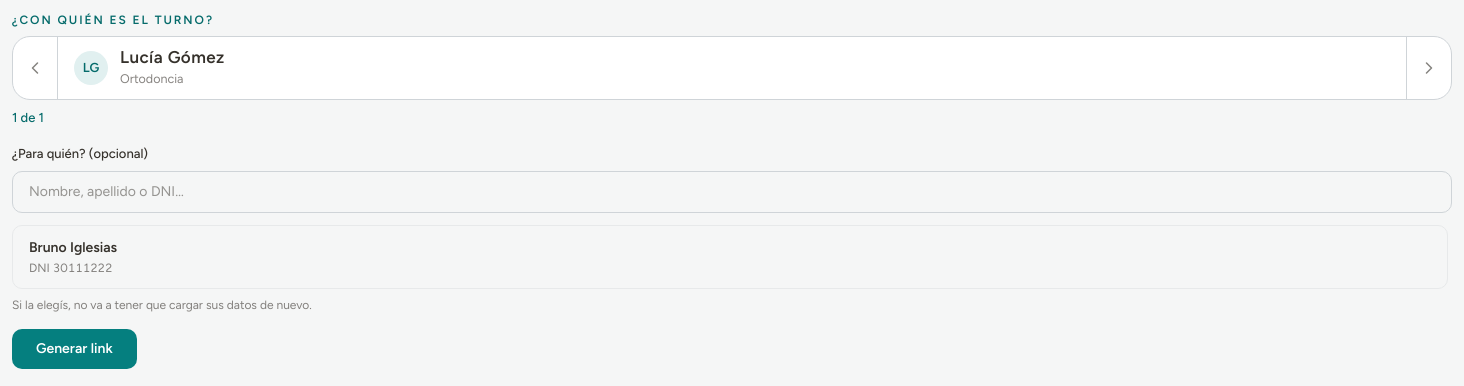
Test case: CompartirLinkTurno › qué decide el link › con 'Cualquier profesional' y una ficha elegida, las manda las dos
Expected: the text "Lucía Gómez" is shown, [120,47,225,68]
Click the button with aria-label "Elegir de quién es la vista": (91, 68) [57,37,1407,99]
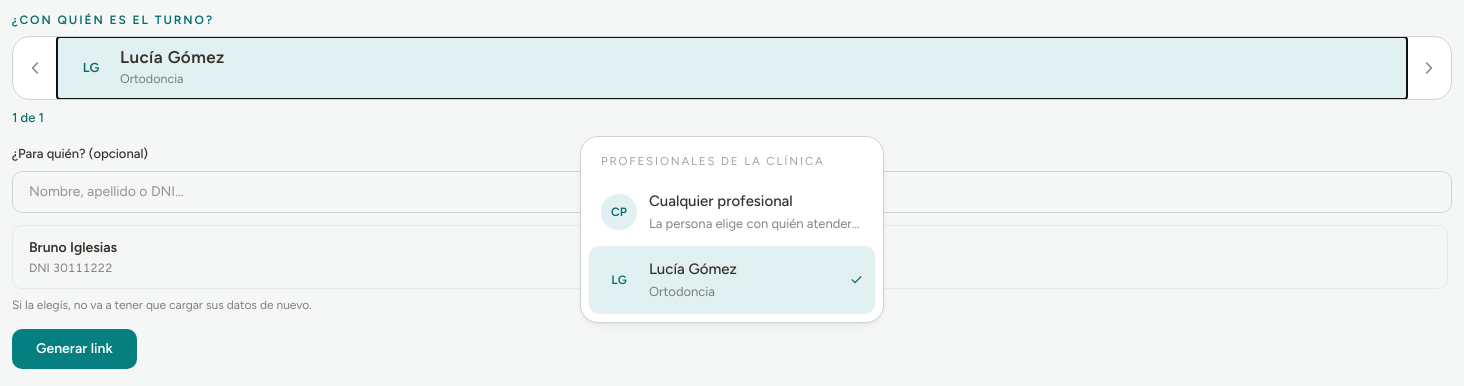
Click the button "Cualquier profesional": (732, 212) [589,178,875,246]
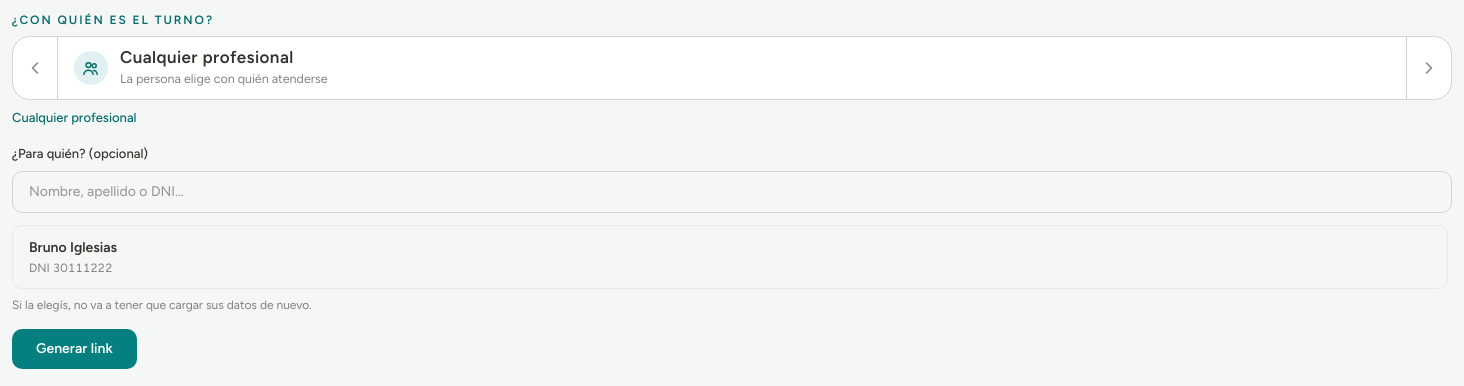
In the search field named "Buscar paciente": (732, 192) [12,171,1452,213], type "Bruno"
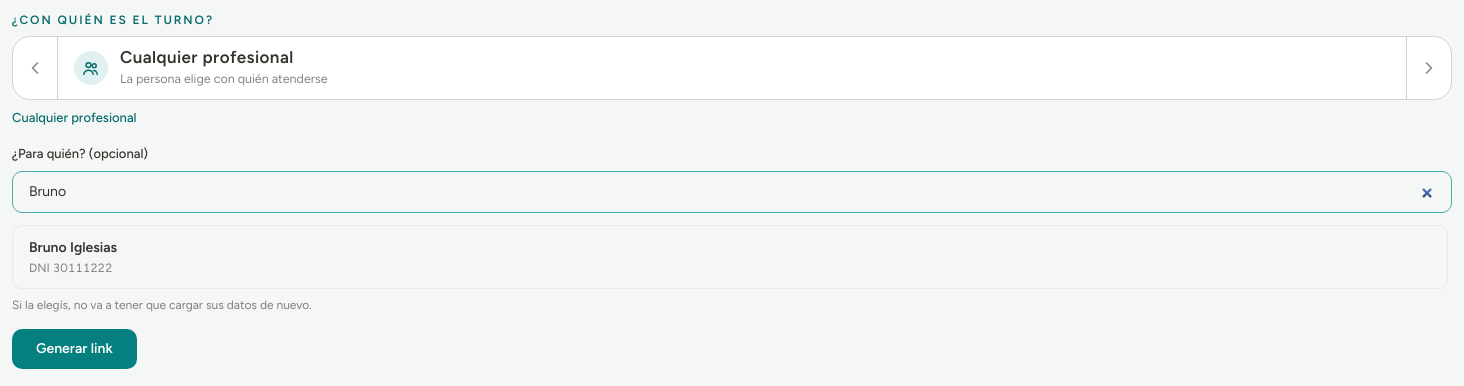
Click the button "Bruno Iglesias DNI 30111222": (48, 248) [12,225,1448,289]
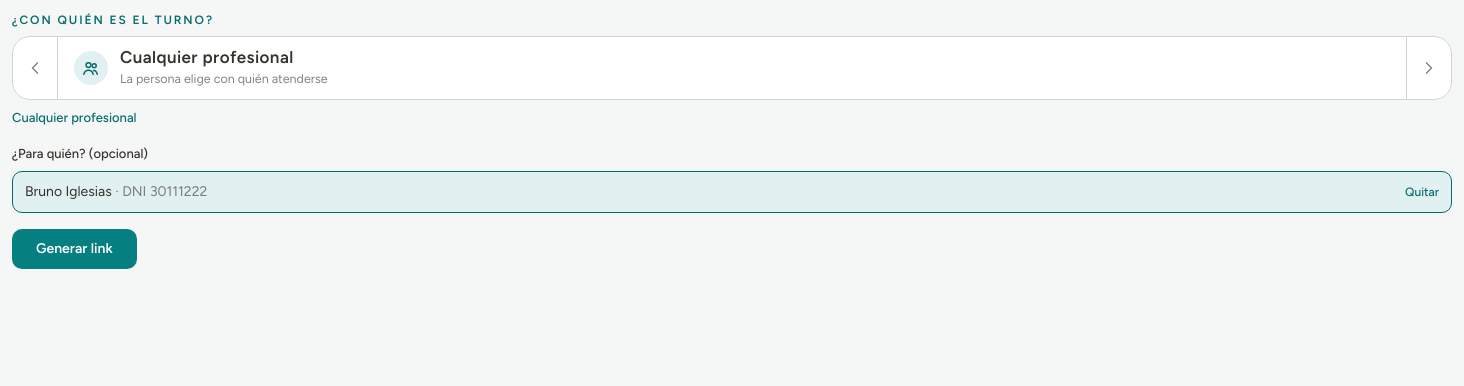
Click the button "Generar link": (74, 249) [12,229,137,269]
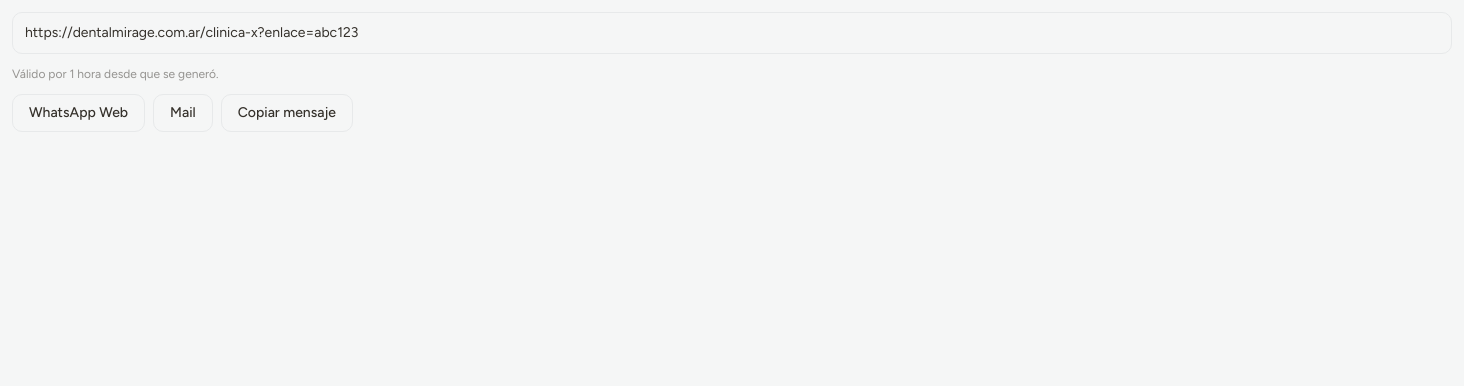
Expected: the field showing "https://dentalmirage.com.ar/clinica-x?enlace=abc123" is shown, [12,12,1452,54]
